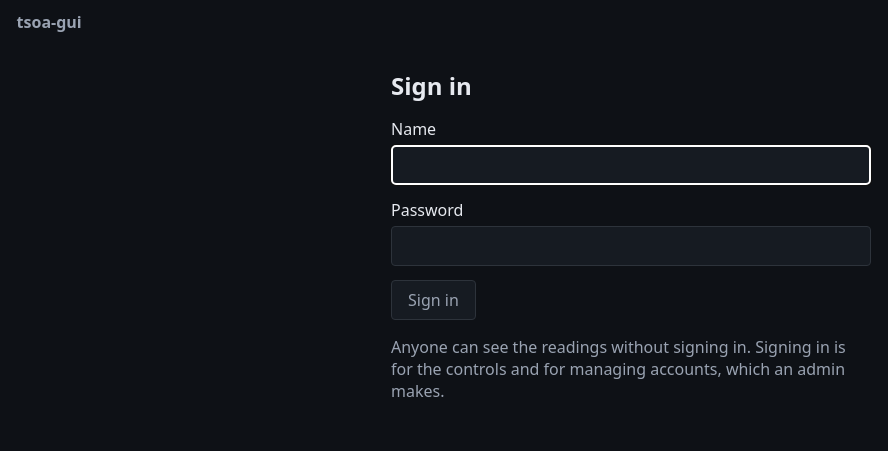
the sign-in page › says why a sign-in was refused
This screenshot has width=888, height=451.
Type "owner" into the field labelled "Name".
click(631, 165); type("owner")  # box [391,145,871,185]
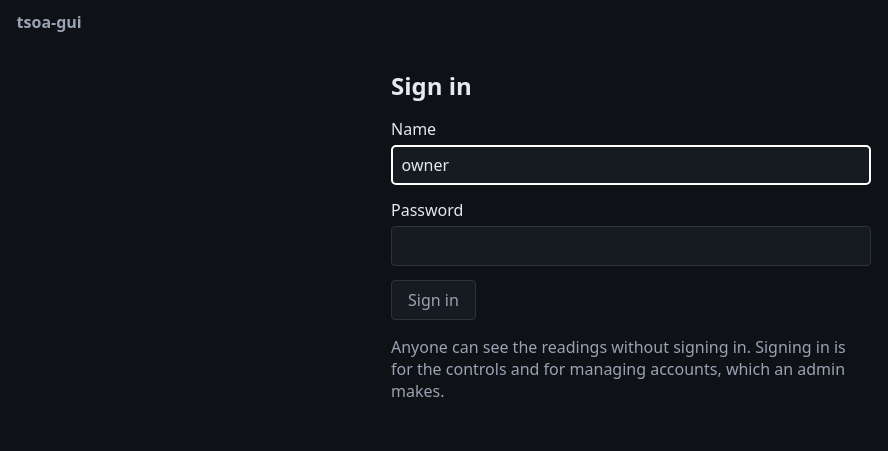
Type "wrong horse" into the password field labelled "Password".
click(631, 246); type("wrong horse")  # box [391,226,871,266]
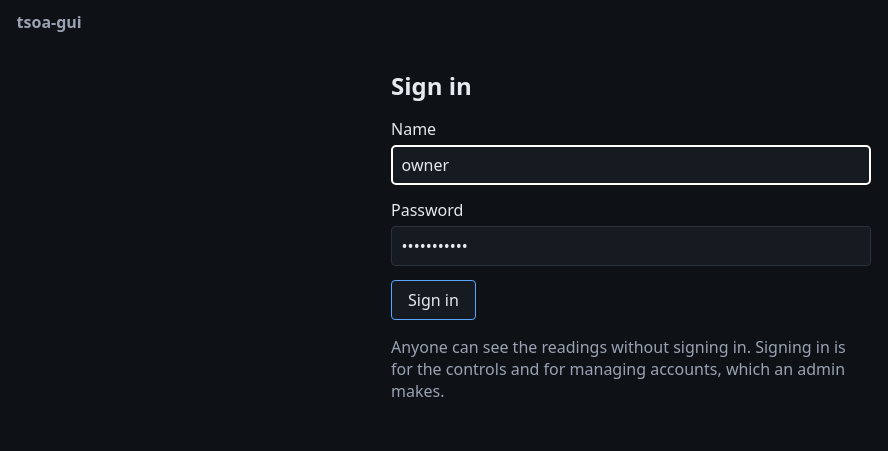
Click the button "Sign in".
click(433, 300)  # box [391,280,476,320]
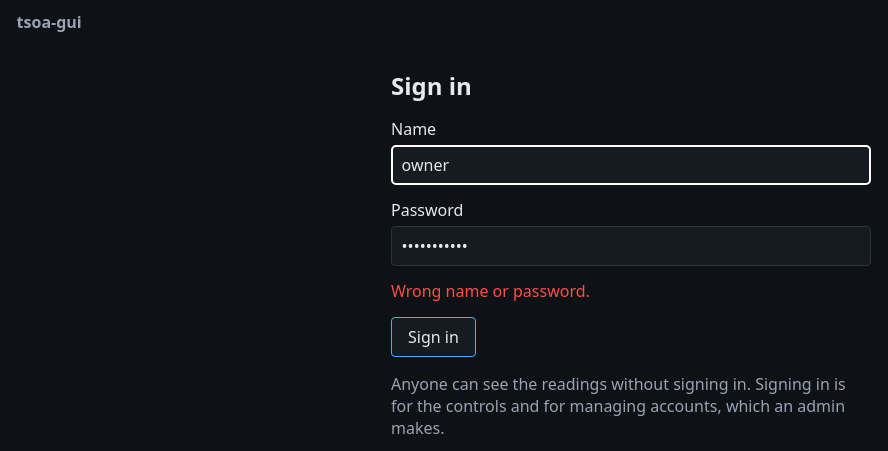
Now the message reads "Wrong name or password.", box [391,280,590,302]
